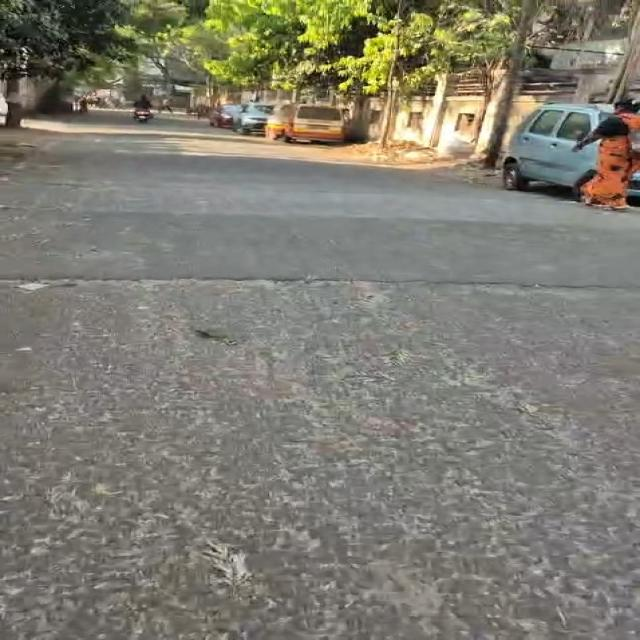vehicle: (501, 104, 613, 196), (235, 103, 274, 134), (209, 105, 241, 128)
